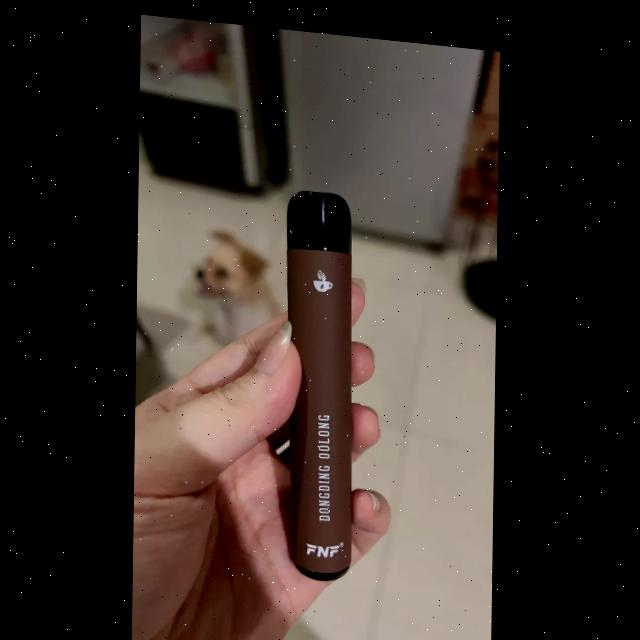vape: (282, 180, 354, 577)
